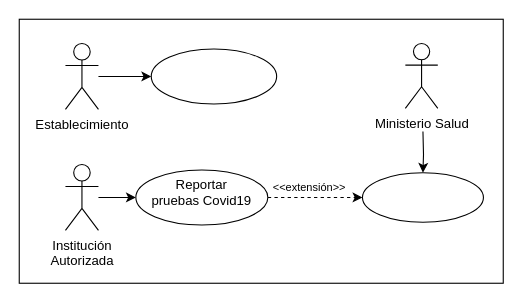
The diagram is 523 pixels wide and 303 high, and some of its shapes have lost their labels. Each missing label, with the box of its shape:
Actaulizar lista de visitantes: (150, 48, 277, 104)
Generar Notificaciones: (361, 172, 483, 222)
